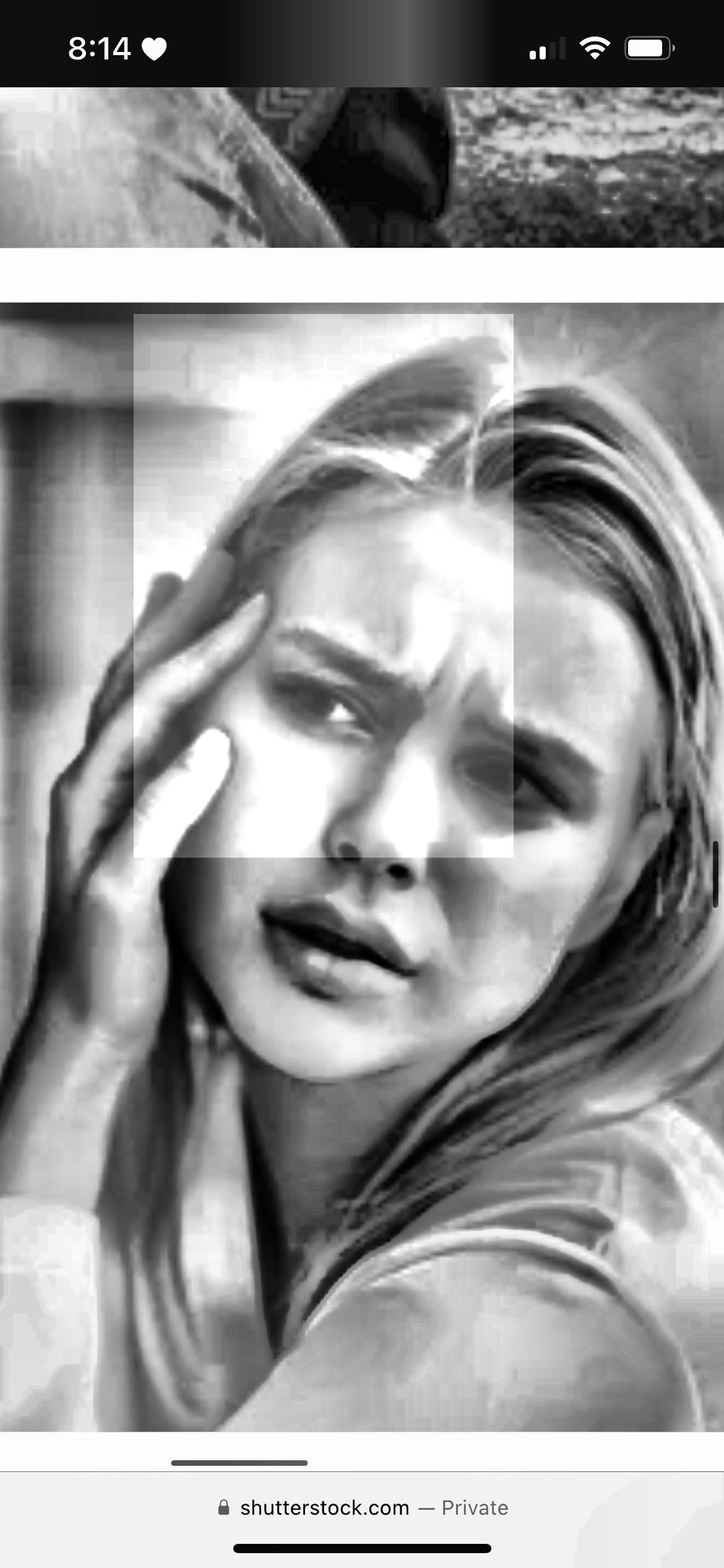sad: (165, 388, 635, 1060)
